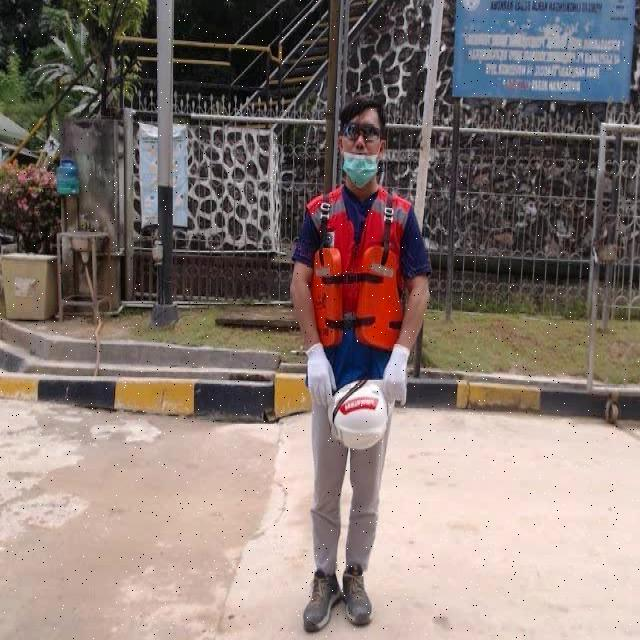Hard_hat: (326, 379, 387, 453)
Vest: (306, 196, 407, 358)
